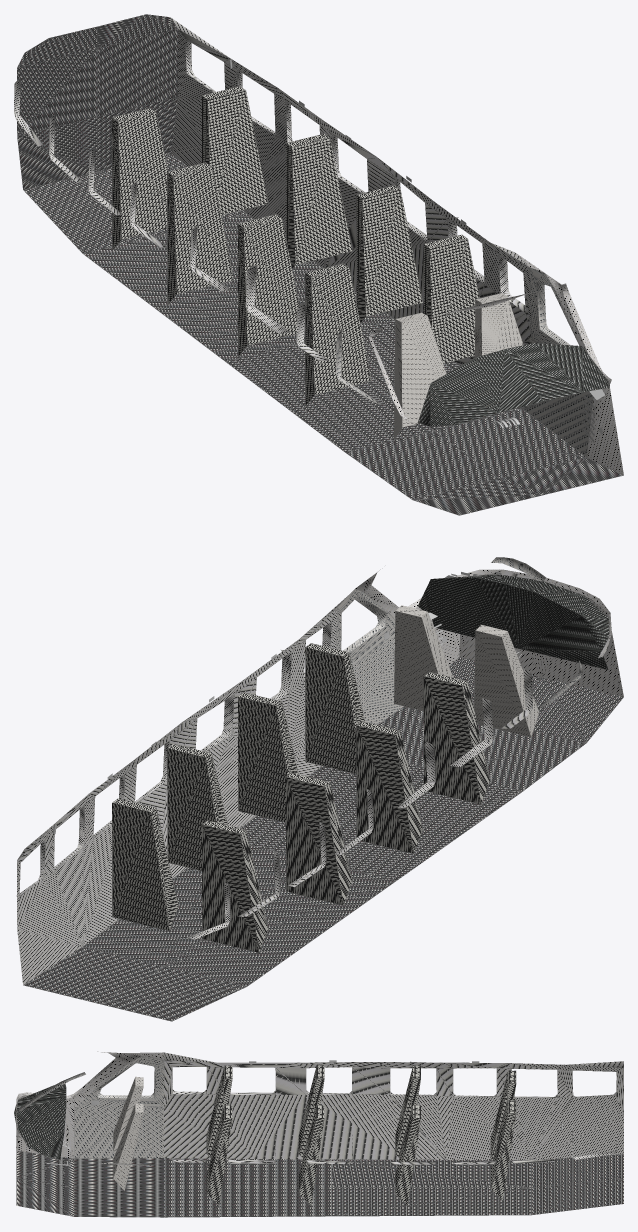
File: 208B_GRAND_CARAVAN_EX_INTERIOR_LOD05.gltf
The picture shows the model from 3 angles, top to bottom: view 1: azimuth 30°, elevation 25°; view 2: azimuth 150°, elevation 25°; view 3: azimuth 270°, elevation 25°; orthographic projection. The views are drawn at different scales.
Visible parts, largest first — view 1: FLOOR_BACK, CABIN_SEATS, BACK, MAIN_PANEL, SEAT_FRONT, DOORS, TOP_FRONT; view 2: CABIN_SEATS, FLOOR_BACK, BACK, MAIN_PANEL, SEAT_FRONT, DOORS, TOP_FRONT; view 3: BACK, FLOOR_BACK, CABIN_SEATS, DOORS, MAIN_PANEL, TOP_FRONT, SEAT_FRONT.
Boxes of the visible parts, bbox=[...] form: FLOOR_BACK: bbox=[17, 14, 623, 515]; CABIN_SEATS: bbox=[112, 86, 479, 405]; BACK: bbox=[14, 18, 532, 408]; MAIN_PANEL: bbox=[417, 343, 609, 426]; SEAT_FRONT: bbox=[394, 293, 523, 439]; DOORS: bbox=[336, 267, 593, 456]; TOP_FRONT: bbox=[368, 253, 623, 475]; CABIN_SEATS: bbox=[112, 643, 490, 952]; FLOOR_BACK: bbox=[23, 657, 623, 1021]; BACK: bbox=[16, 593, 532, 984]; MAIN_PANEL: bbox=[417, 574, 609, 669]; SEAT_FRONT: bbox=[394, 605, 539, 736]; DOORS: bbox=[336, 557, 583, 724]; TOP_FRONT: bbox=[355, 568, 623, 696]; BACK: bbox=[164, 1052, 623, 1164]; FLOOR_BACK: bbox=[16, 1151, 623, 1217]; CABIN_SEATS: bbox=[206, 1065, 516, 1205]; DOORS: bbox=[15, 1056, 164, 1165]; MAIN_PANEL: bbox=[14, 1084, 66, 1159]; TOP_FRONT: bbox=[16, 1051, 164, 1173]; SEAT_FRONT: bbox=[113, 1076, 143, 1190].
Size of the model in its own units: 1.77 by 1.4 by 6.42.
